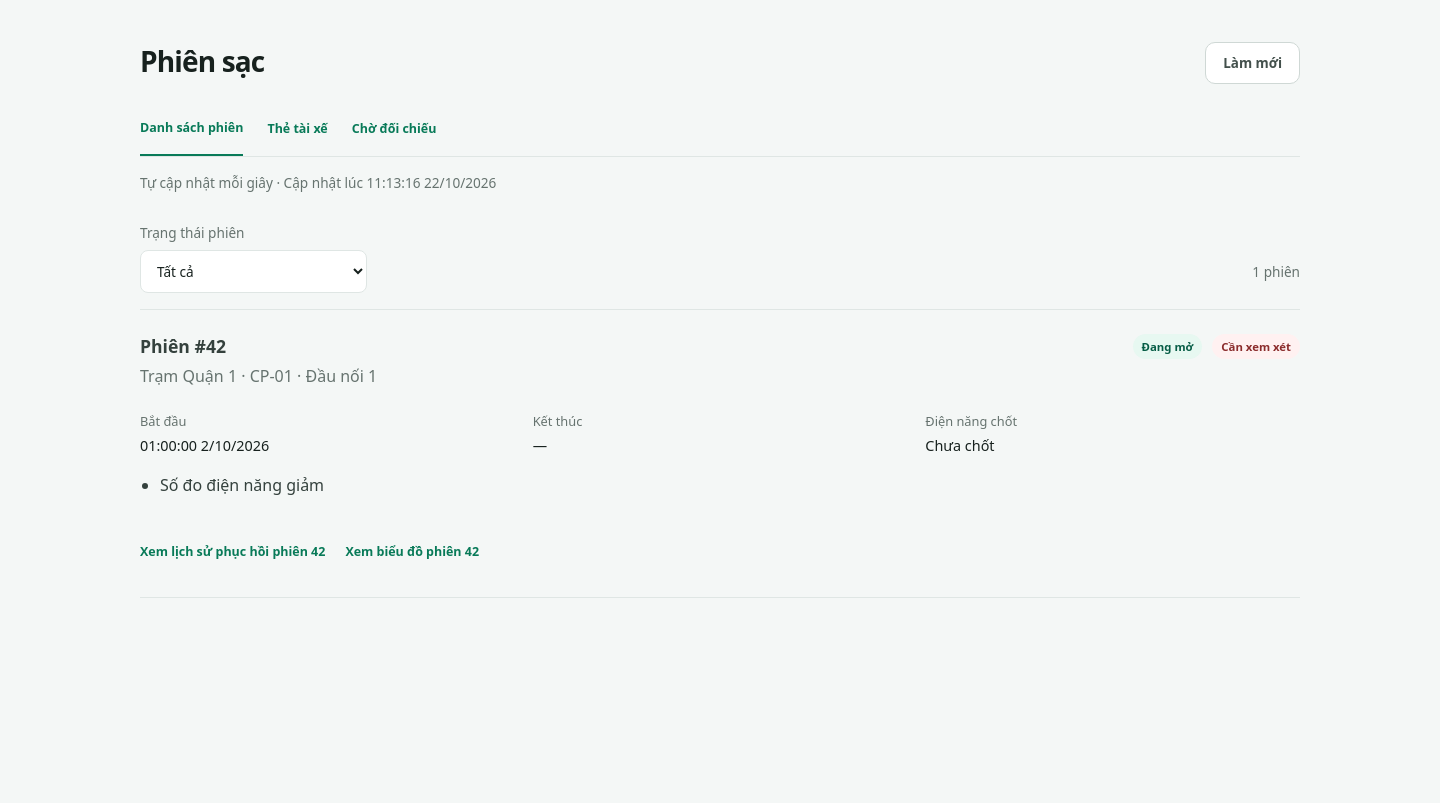
Scenario: ChargingSessionsPage › loads real API, shows review reasons and fetches meter detail
Expected: the heading "Phiên #42" is shown, left=140, top=334, right=226, bottom=358
Expected: the list item "Số đo điện năng giảm" is shown, left=160, top=474, right=324, bottom=496
Click the button "Xem biểu đồ phiên 42".
click(412, 551)  # box left=345, top=529, right=479, bottom=573
(page scrolled)
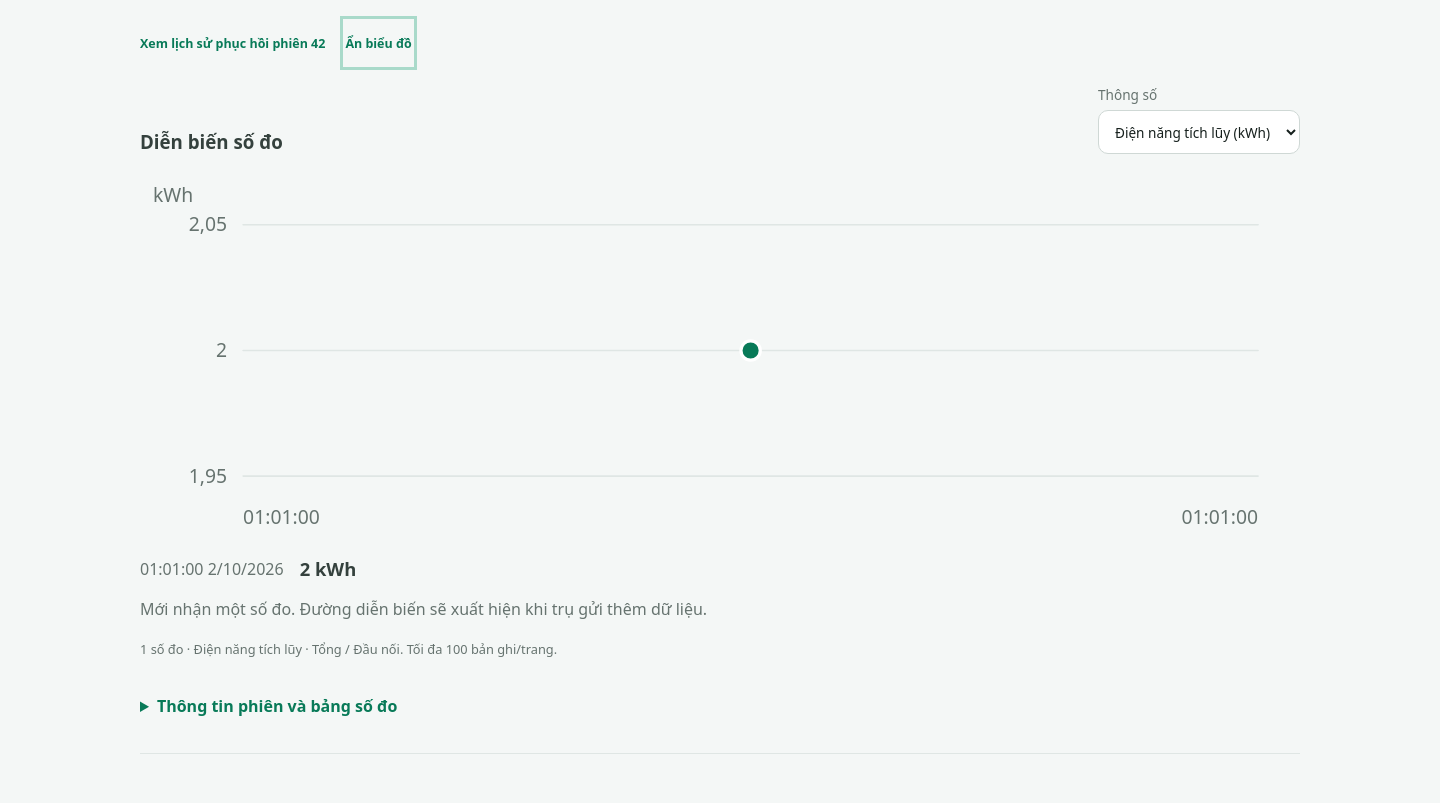
Result: the picture named "Biểu đồ điện năng tích lũy phiên 42" is shown at left=140, top=170, right=1300, bottom=544
Click the heading "Thông tin phiên và bảng số đo".
click(277, 706)  # box left=157, top=695, right=397, bottom=717
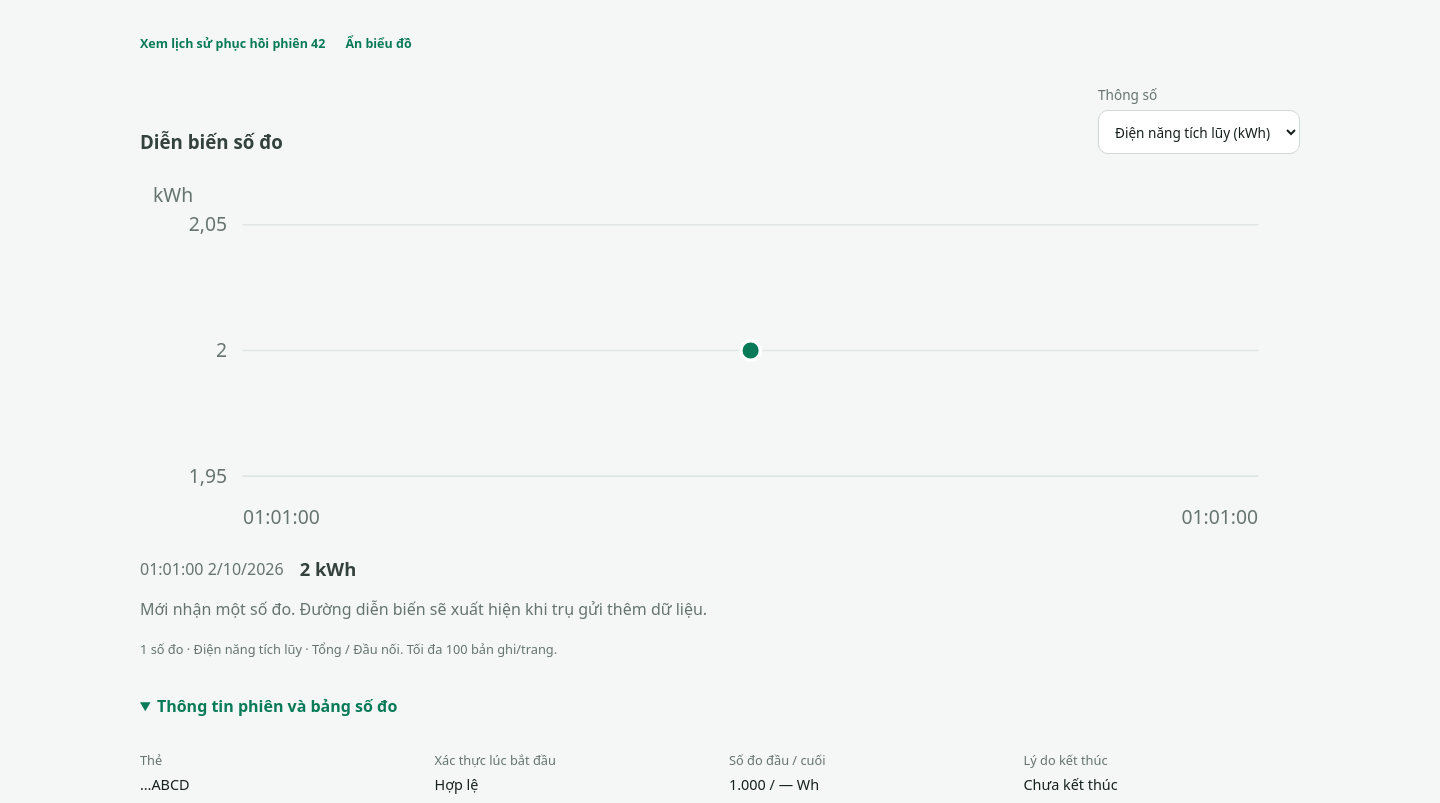
Result: the text "…ABCD" is shown at left=140, top=775, right=190, bottom=794
